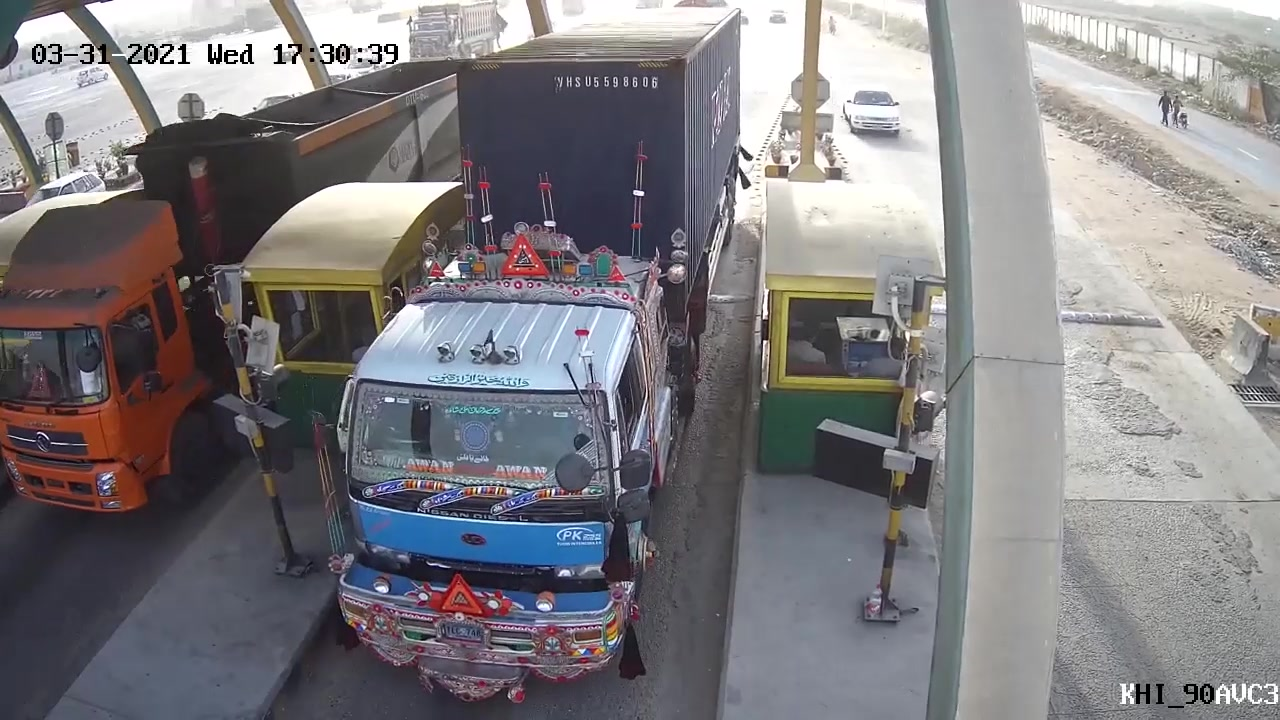F6: (313, 53, 700, 703)
